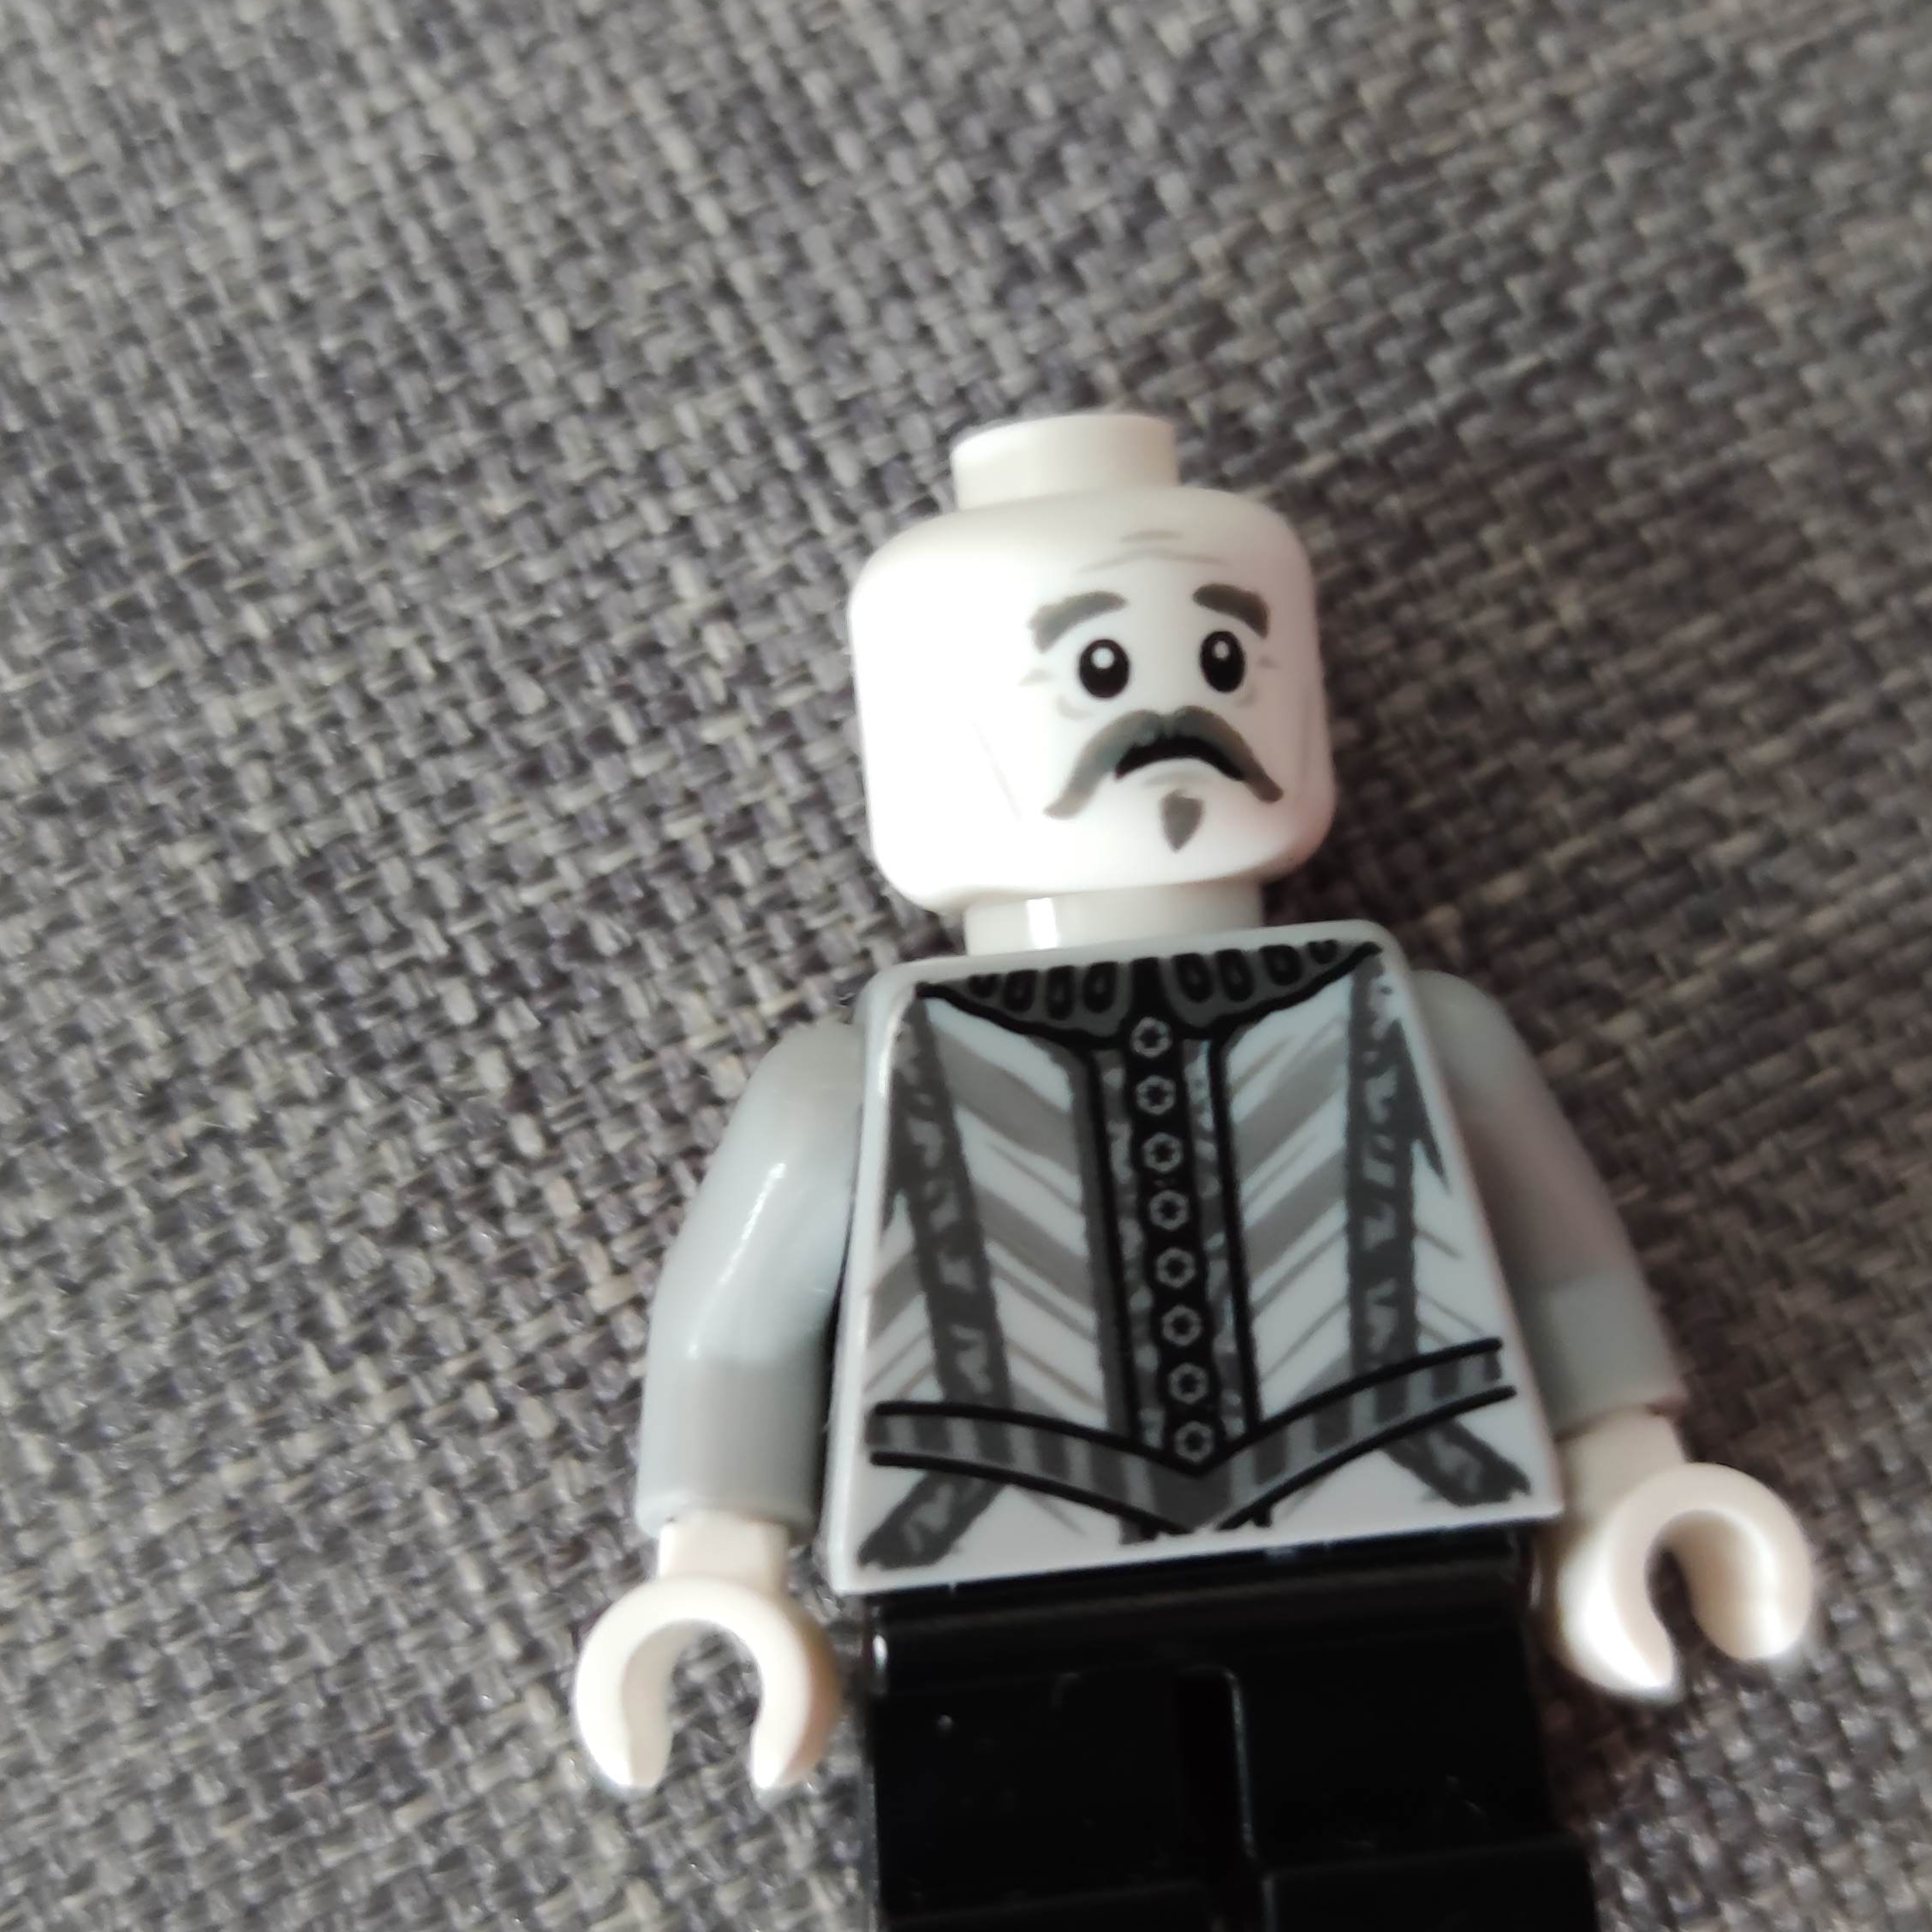lego: (570, 405, 1806, 1932)
